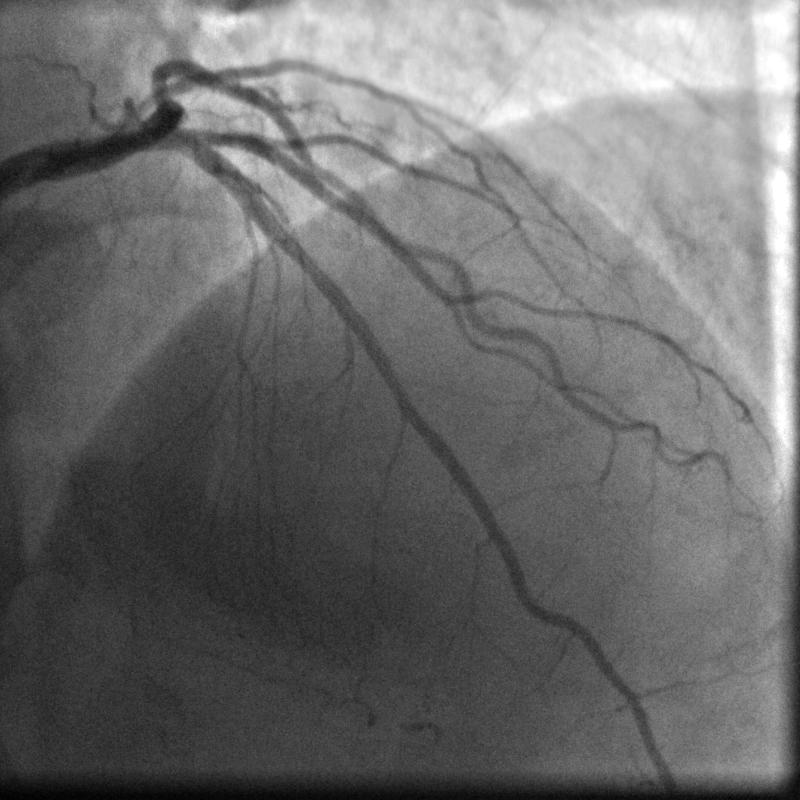Stenosis: (399, 375, 428, 452)
